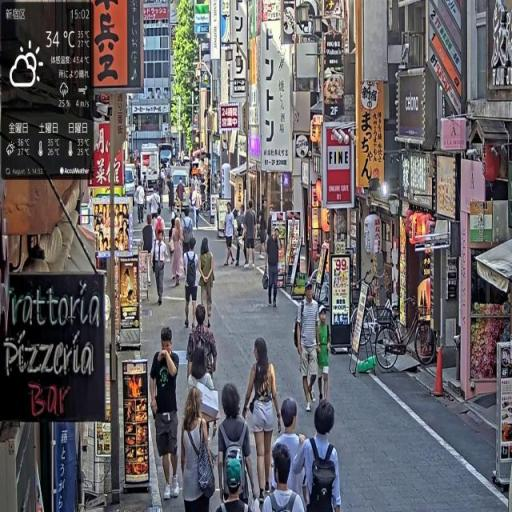person: (243, 335, 286, 505), (216, 385, 262, 512), (150, 324, 181, 506), (298, 402, 343, 512), (180, 386, 219, 512), (272, 396, 307, 507), (295, 280, 322, 415), (261, 446, 308, 512), (186, 304, 219, 391), (183, 235, 201, 332), (198, 234, 216, 328), (317, 307, 333, 408), (151, 225, 170, 309), (265, 226, 283, 310), (171, 217, 185, 289), (223, 204, 237, 270)
